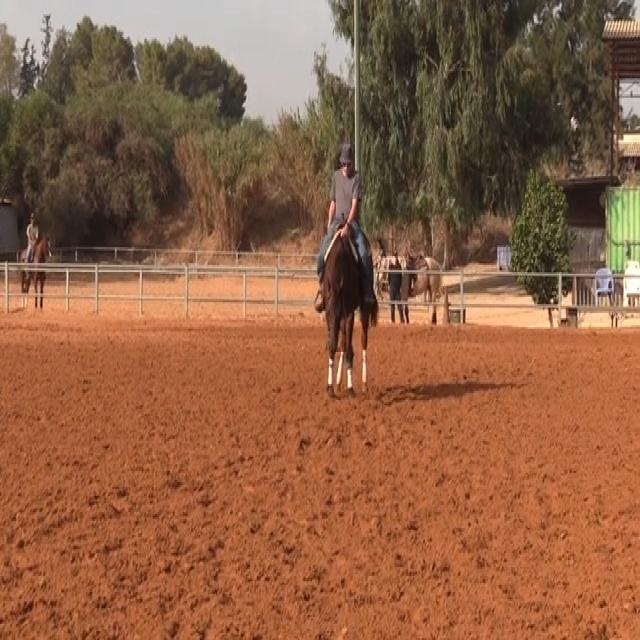horse: (320, 219, 379, 400)
